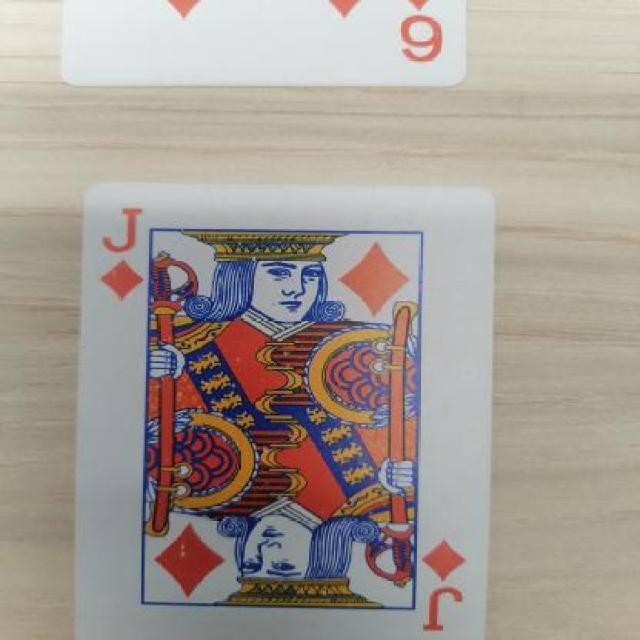JD: (84, 194, 161, 314), (412, 538, 486, 638)
